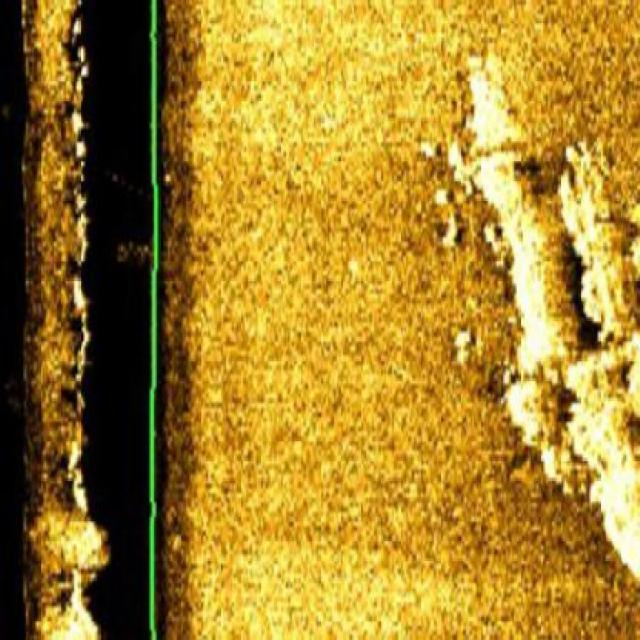bedrock group: (419, 44, 639, 574)
